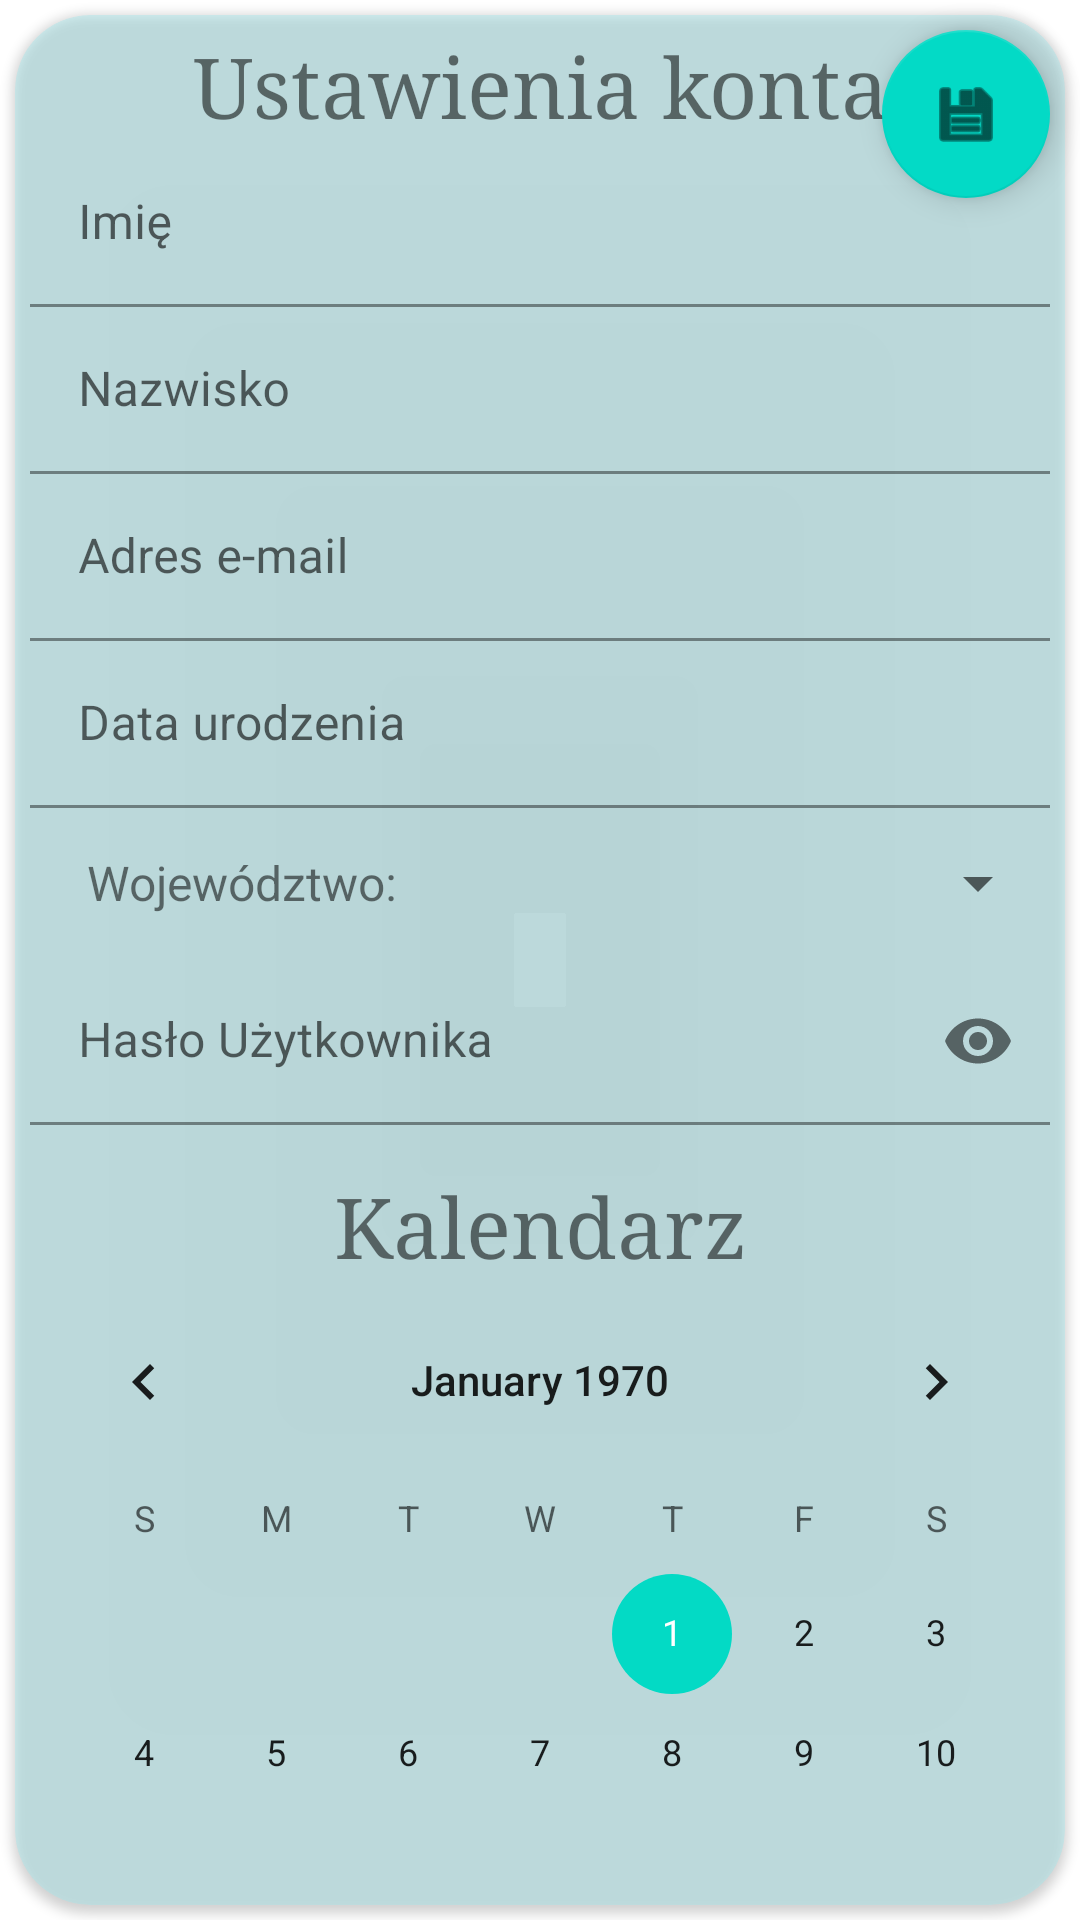

Where icons sit on this 1080w x 1920h app screen, as (x1, y1, x2, y2):
save: (882, 30, 1050, 198)
